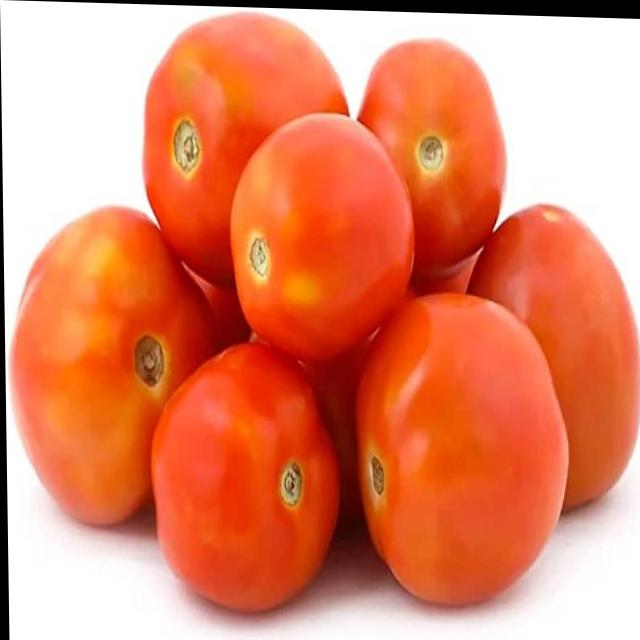sari: (255, 102, 410, 369), (2, 188, 165, 430)
